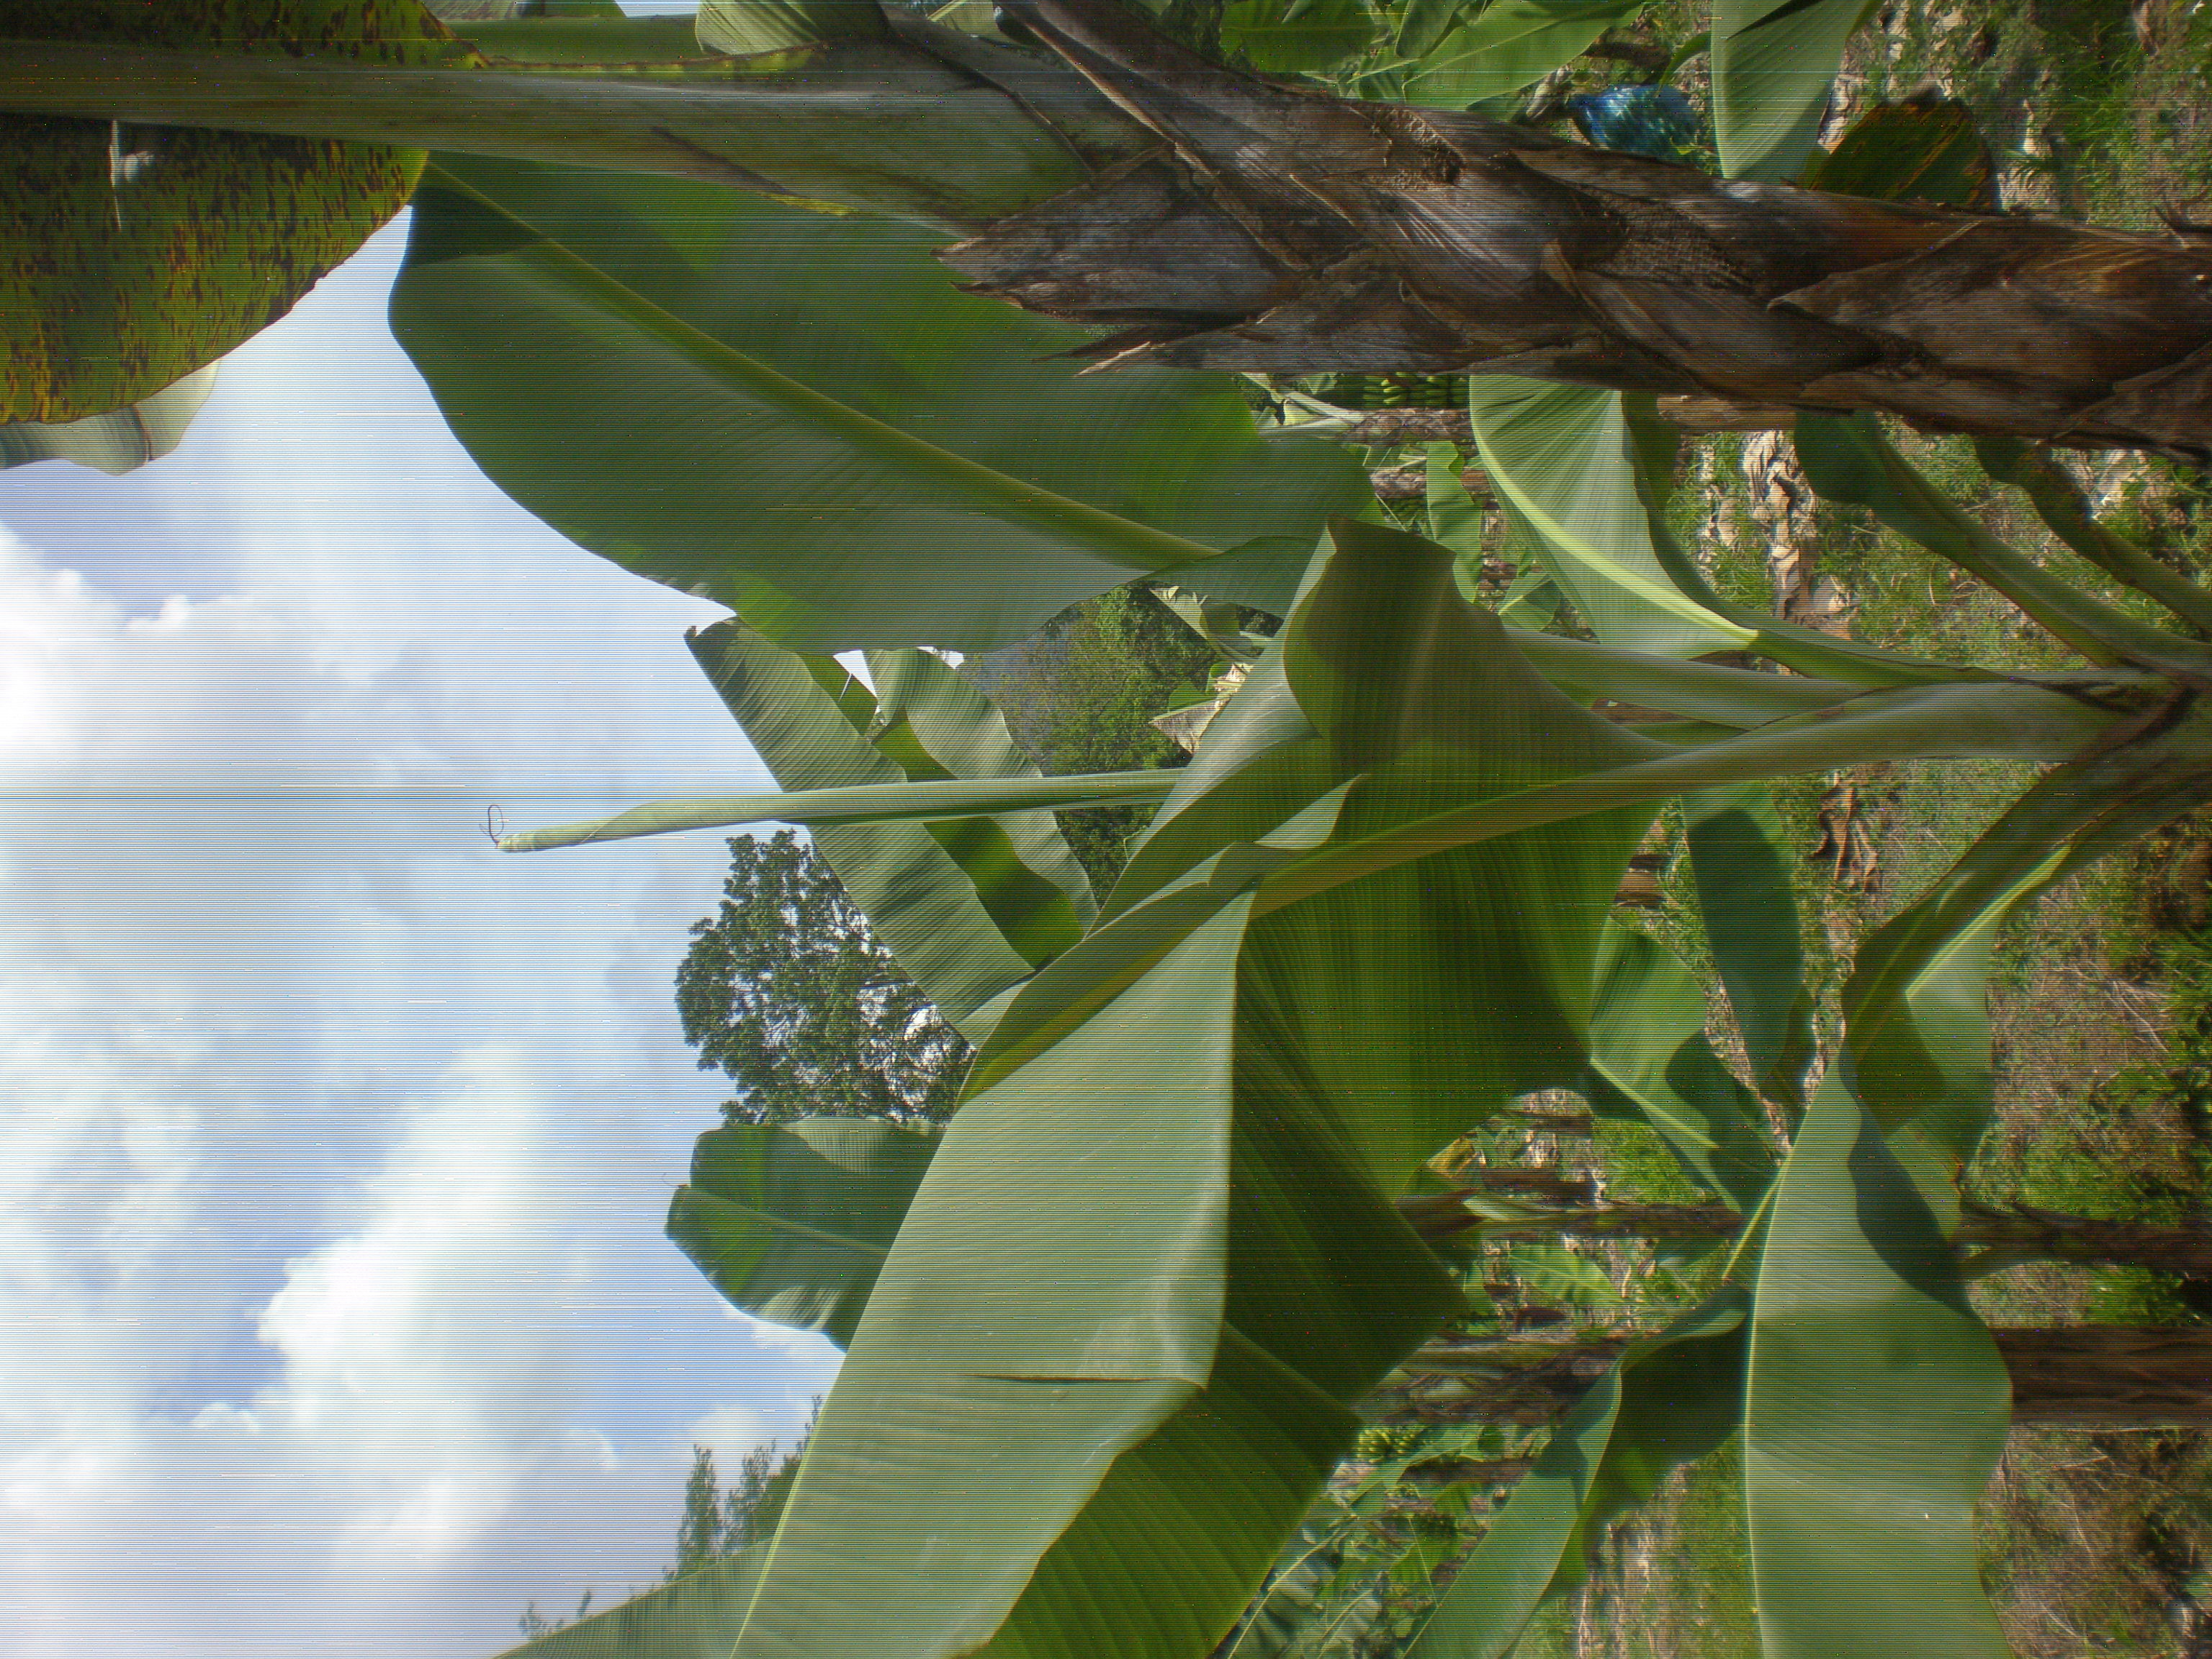candleleafs: (488, 767, 1172, 870)
